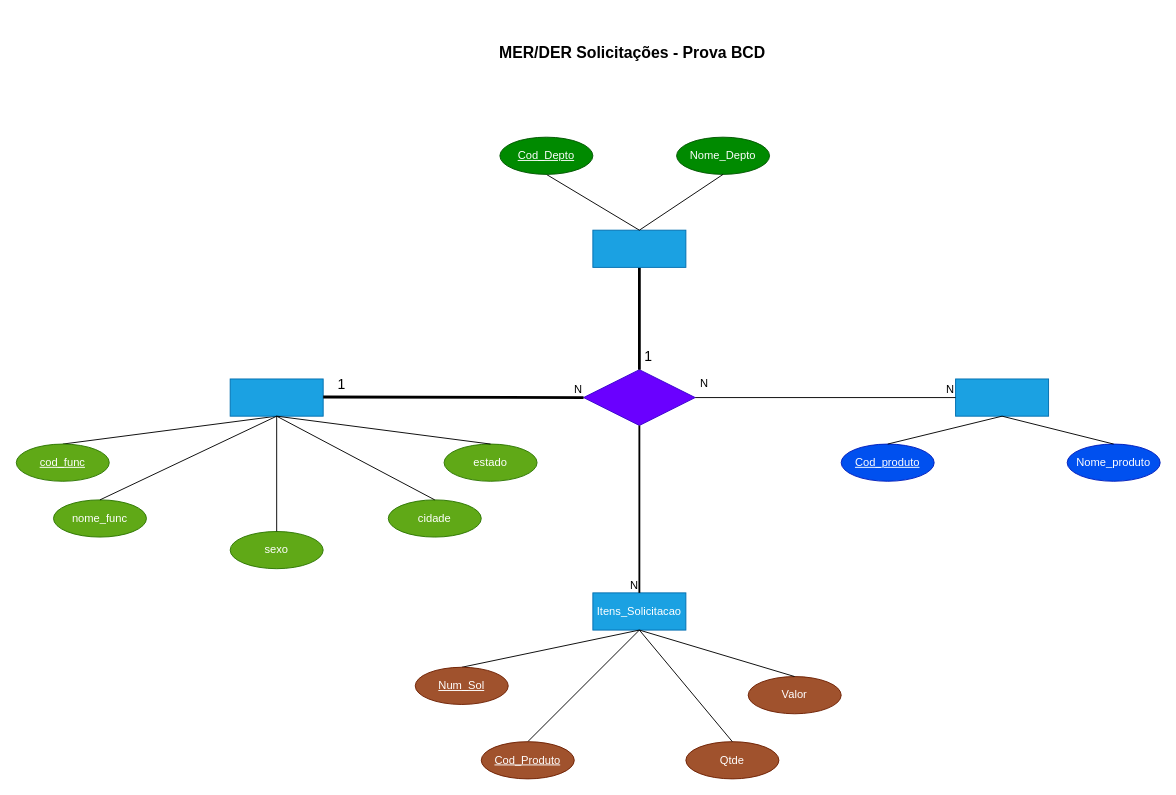
Image size: 1176x795. Some labels were removed from this diagram. The box of each missing label's shape, as (x1, y1, x2, y2) in pixels:
Departamentos: (592, 229, 686, 267)
Funcionarios: (229, 378, 323, 416)
Produtos: (955, 378, 1049, 416)
Solicita: (583, 369, 695, 425)
